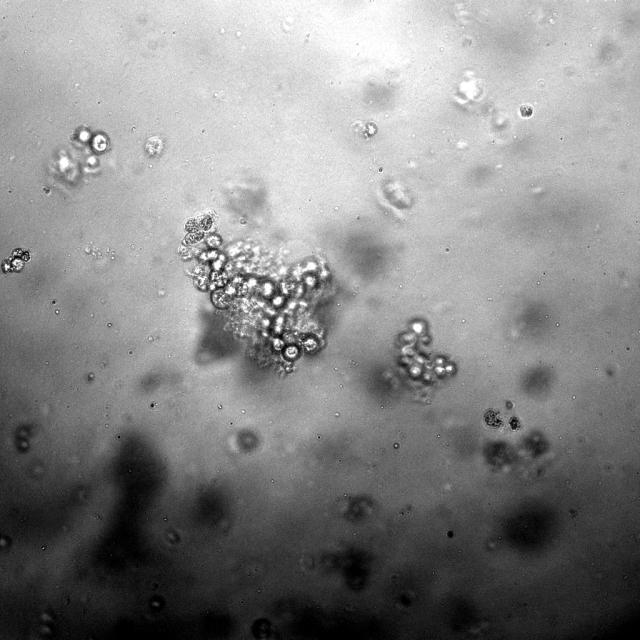organoid: (180, 212, 331, 372), (382, 318, 456, 390), (482, 430, 550, 472), (49, 148, 80, 185), (69, 125, 109, 153), (0, 247, 30, 273), (351, 120, 378, 139), (144, 135, 166, 157), (482, 408, 504, 429), (83, 155, 99, 172), (518, 103, 533, 118), (508, 415, 521, 430), (505, 400, 513, 410), (42, 187, 50, 194), (29, 198, 34, 204), (7, 189, 12, 194)
